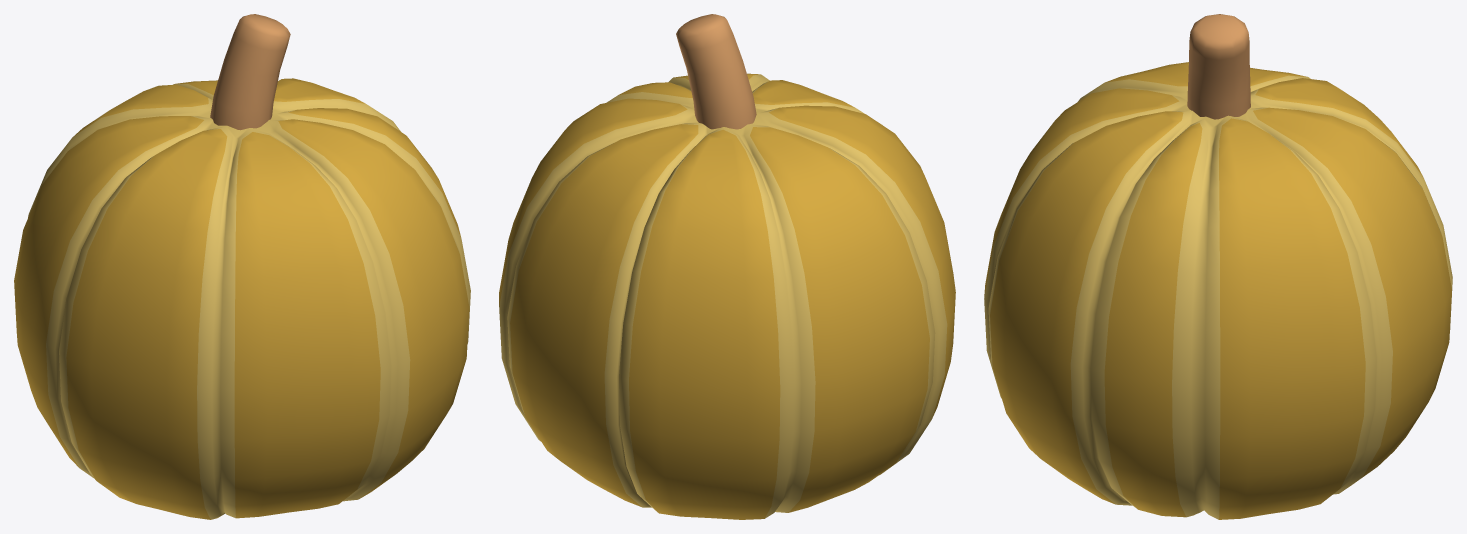
Rendered from Pumpkin_02.dae.
3 views of the same model, side by side, from view 1: azimuth 30°, elevation 25°; view 2: azimuth 150°, elevation 25°; view 3: azimuth 270°, elevation 25° (orthographic). The views are drawn at different scales.
Visible parts, largest first — view 1: Pumpkin_02_LOD0; view 2: Pumpkin_02_LOD0; view 3: Pumpkin_02_LOD0.
Part boxes in pixels (x1,y1,x2,y2): Pumpkin_02_LOD0: (14, 14, 470, 519); Pumpkin_02_LOD0: (499, 14, 955, 519); Pumpkin_02_LOD0: (984, 14, 1452, 519).
Size of what is drawn, in the model's own units: 5.57 by 5.52 by 6.03.
